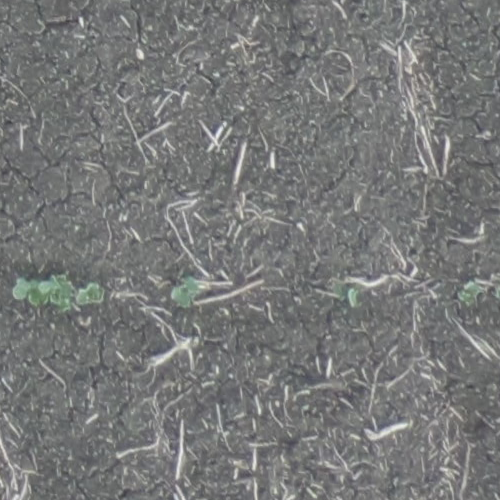clumped: (11, 270, 73, 310)
isolated: (172, 276, 200, 309), (333, 283, 360, 307), (457, 282, 483, 306), (75, 281, 103, 303), (495, 284, 499, 307)
